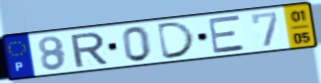0: (120, 24, 154, 64)
7: (248, 10, 281, 49)
8: (36, 35, 67, 72)
D: (156, 20, 199, 61)
E: (206, 13, 248, 55)
R: (68, 31, 110, 69)
